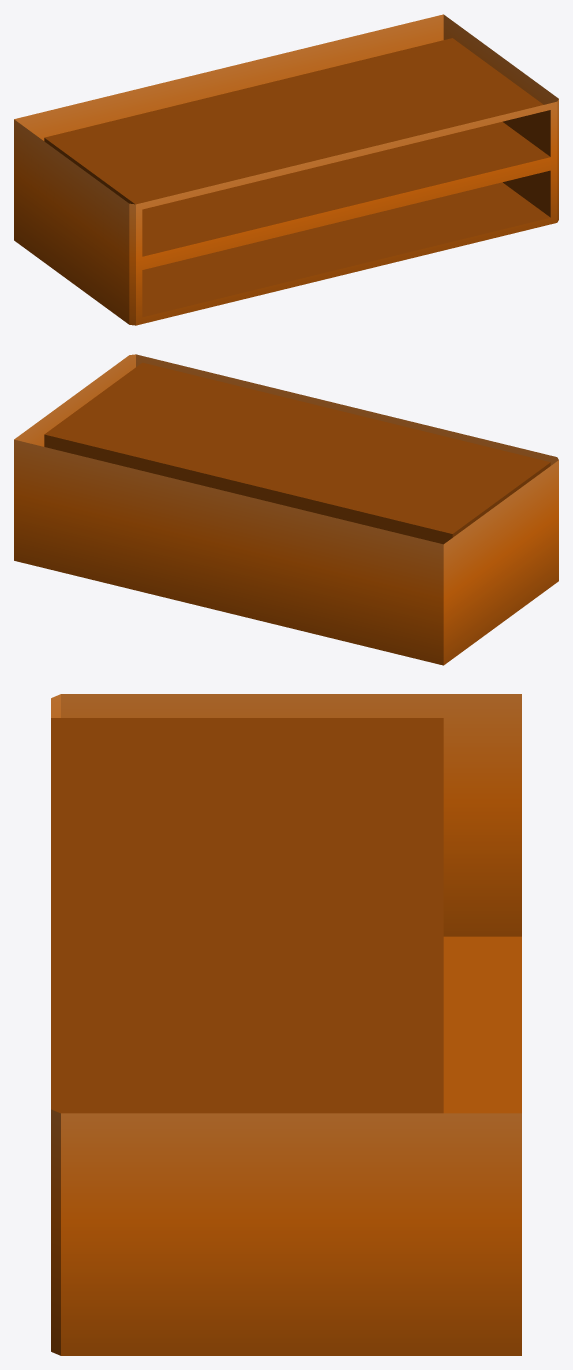
The model's file is Counter_01_v07_D_C03.fbx.
3 renders of one model, top to bottom at view 1: azimuth 30°, elevation 25°; view 2: azimuth 150°, elevation 25°; view 3: azimuth 270°, elevation 25°, orthographic. The views are drawn at different scales.
Parts seen in each view (by area): view 1: Counter_01_v07_D_C03; view 2: Counter_01_v07_D_C03; view 3: Counter_01_v07_D_C03.
Part boxes in pixels (x1,y1,x2,y2): Counter_01_v07_D_C03: (14, 14, 558, 325); Counter_01_v07_D_C03: (14, 354, 558, 665); Counter_01_v07_D_C03: (51, 694, 521, 1355).
Bounding box in the file's own units: 200 × 53.91 × 94.97.
